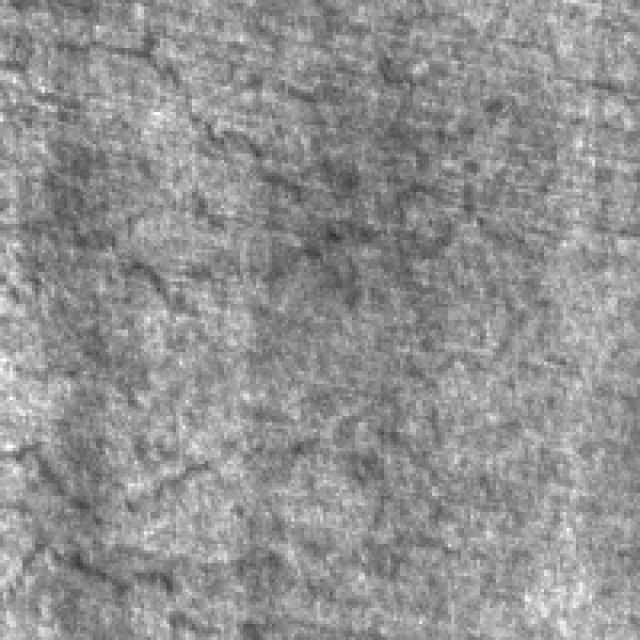crazing: (70, 29, 356, 320), (9, 422, 454, 592)
